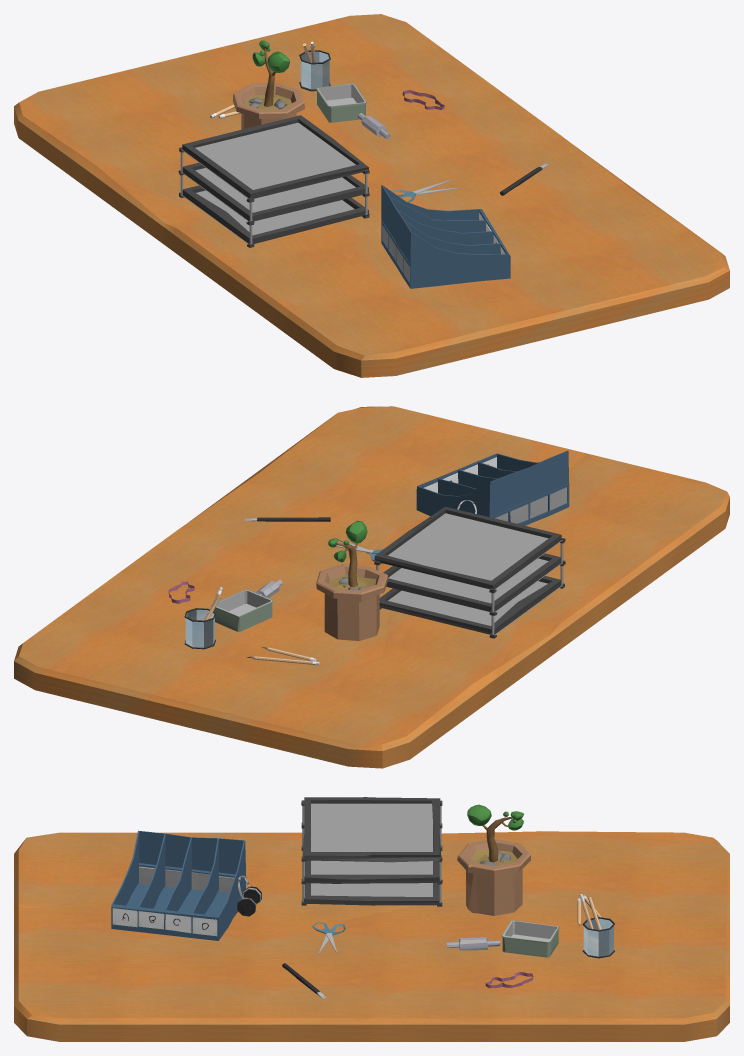
The model's file is Creating_desk.fbx.
The picture shows the model from 3 angles, top to bottom: view 1: azimuth 30°, elevation 25°; view 2: azimuth 150°, elevation 25°; view 3: azimuth 270°, elevation 25°; orthographic projection.
Parts seen in each view (by area): view 1: polySurface3; view 2: polySurface3; view 3: polySurface3.
Part boxes in pixels (<box>): polySurface3: <box>14,14,729,377</box>; polySurface3: <box>14,406,729,768</box>; polySurface3: <box>14,797,729,1041</box>.
Size of the model in its own units: 180 by 53.7 by 285.
